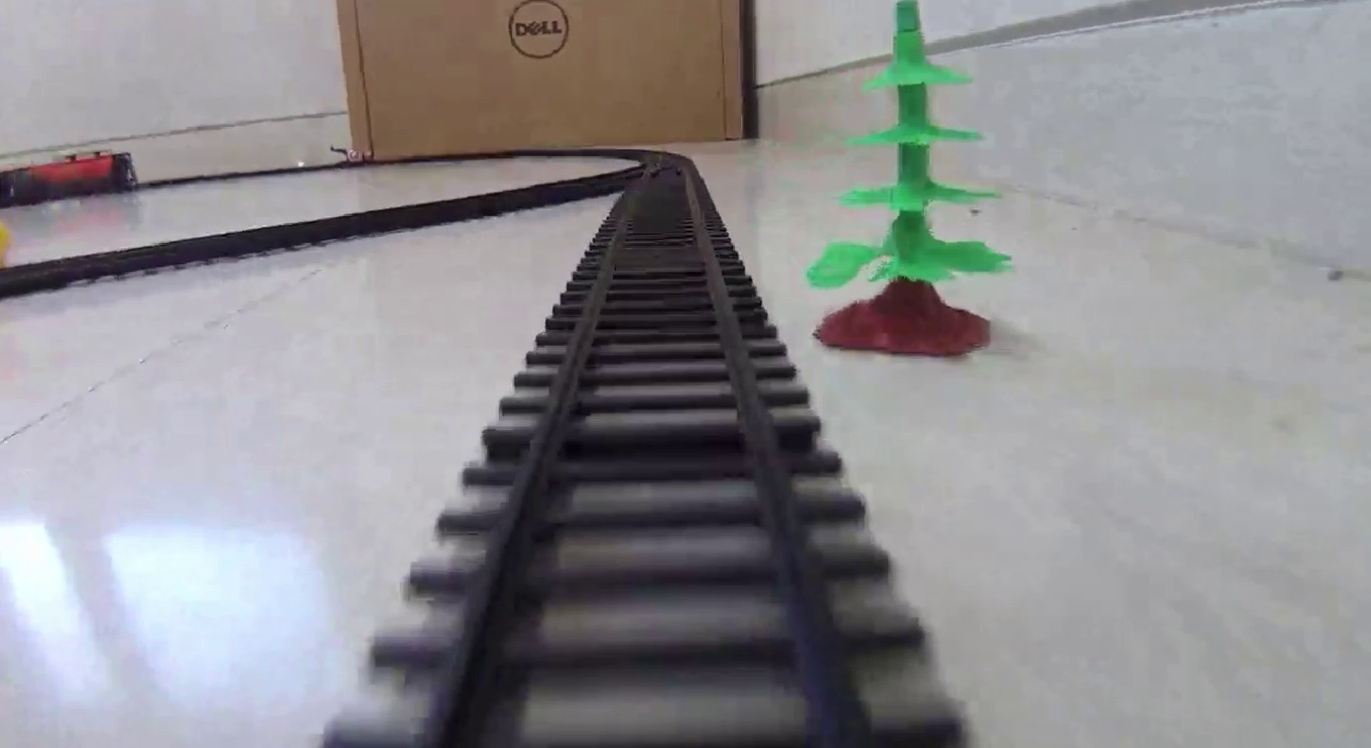tree: (814, 4, 1014, 360)
